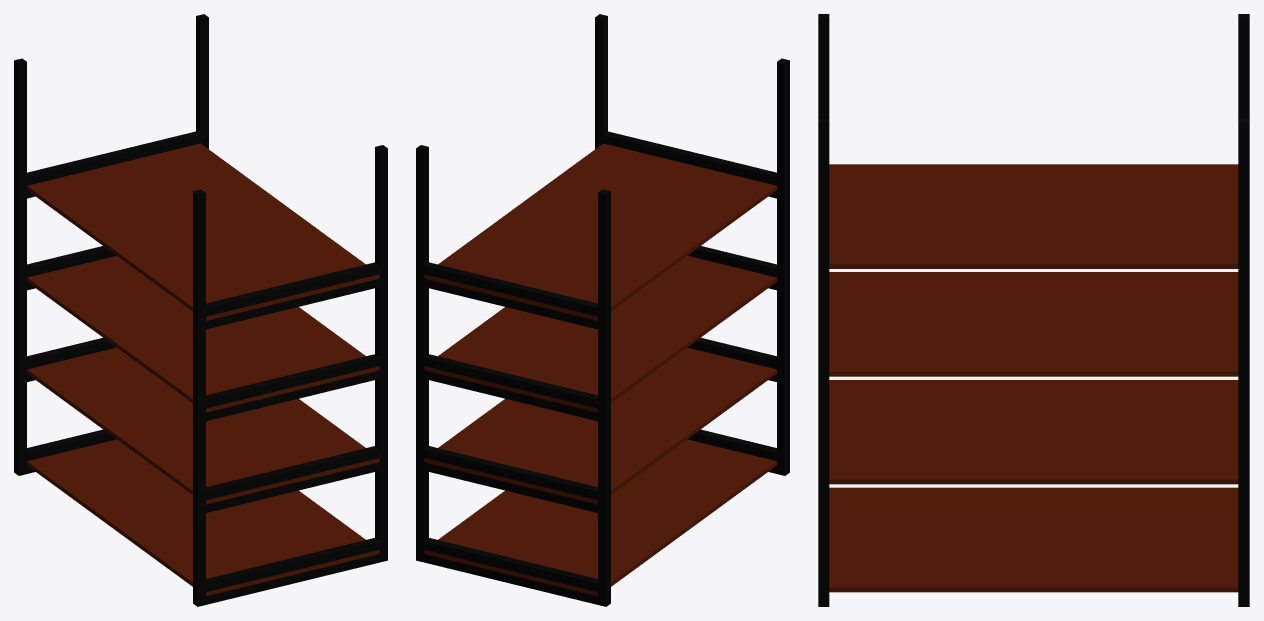
The model's file is shelf-v3.fbx.
3 views of the same model, side by side, from view 1: azimuth 30°, elevation 25°; view 2: azimuth 150°, elevation 25°; view 3: azimuth 270°, elevation 25° (orthographic). The views are drawn at different scales.
Visible parts, largest first — view 1: Cube.005, Cube.002, Cube, Cube.003, Cube.004, Cube.001; view 2: Cube.005, Cube.001, Cube, Cube.003, Cube.004, Cube.002; view 3: Cube, Cube.004, Cube.005, Cube.003, Cube.002, Cube.001.
Part boxes in pixels (bbox=[...]): Cube.005: bbox=[27, 143, 379, 320]; Cube.002: bbox=[193, 145, 387, 606]; Cube: bbox=[27, 439, 379, 596]; Cube.003: bbox=[27, 347, 379, 504]; Cube.004: bbox=[27, 256, 379, 412]; Cube.001: bbox=[14, 14, 208, 475]; Cube.005: bbox=[424, 143, 776, 320]; Cube.001: bbox=[416, 145, 610, 606]; Cube: bbox=[424, 439, 776, 596]; Cube.003: bbox=[424, 347, 776, 504]; Cube.004: bbox=[424, 256, 776, 412]; Cube.002: bbox=[595, 14, 789, 475]; Cube: bbox=[829, 487, 1238, 592]; Cube.004: bbox=[829, 272, 1238, 376]; Cube.005: bbox=[829, 164, 1238, 268]; Cube.003: bbox=[829, 380, 1238, 484]; Cube.002: bbox=[818, 14, 829, 606]; Cube.001: bbox=[1238, 14, 1249, 606].
Bounding box in the file's own units: 400 × 829 × 669.
